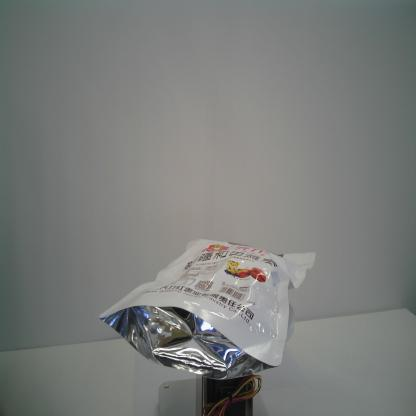Dried Food: (96, 236, 316, 382)
